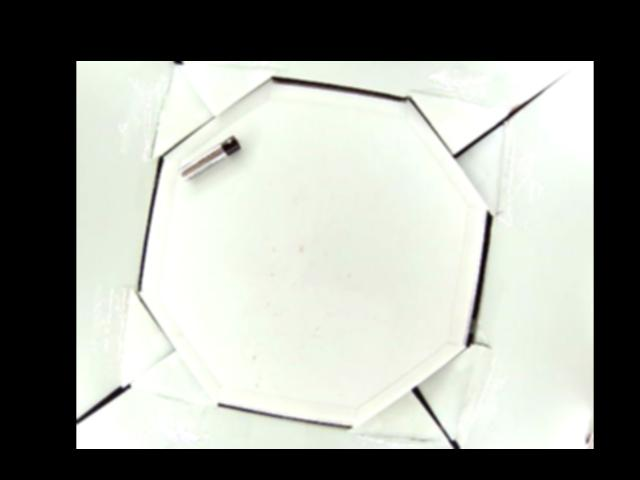Battery: (177, 137, 242, 179)
